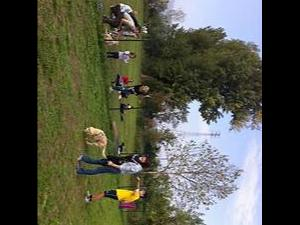dog: (84, 125, 108, 158)
